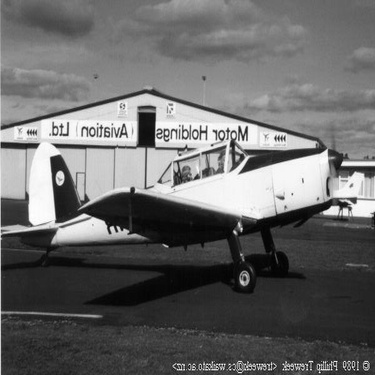airplane: (5, 94, 361, 308)
